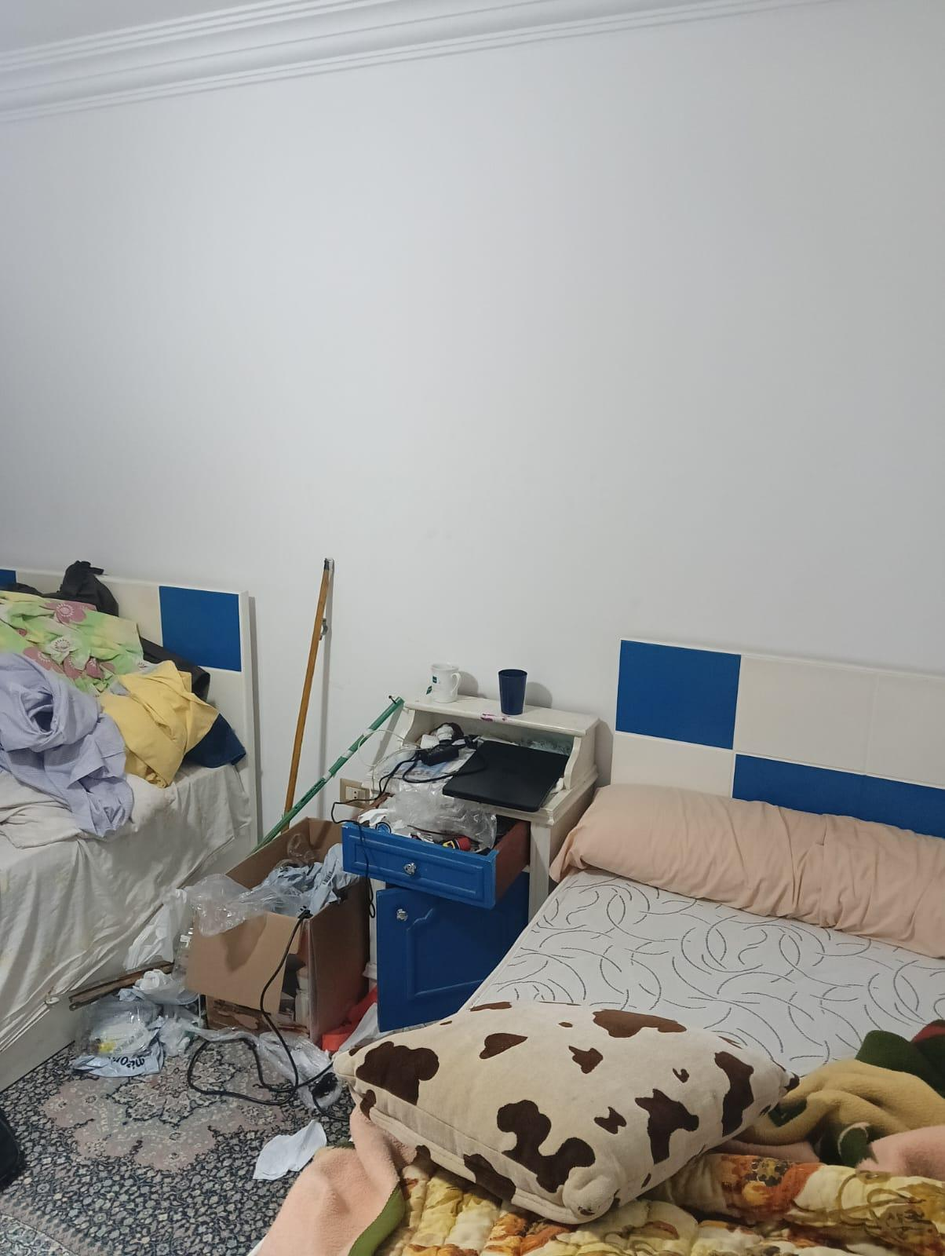cup: (499, 669, 527, 715), (429, 664, 460, 703)
